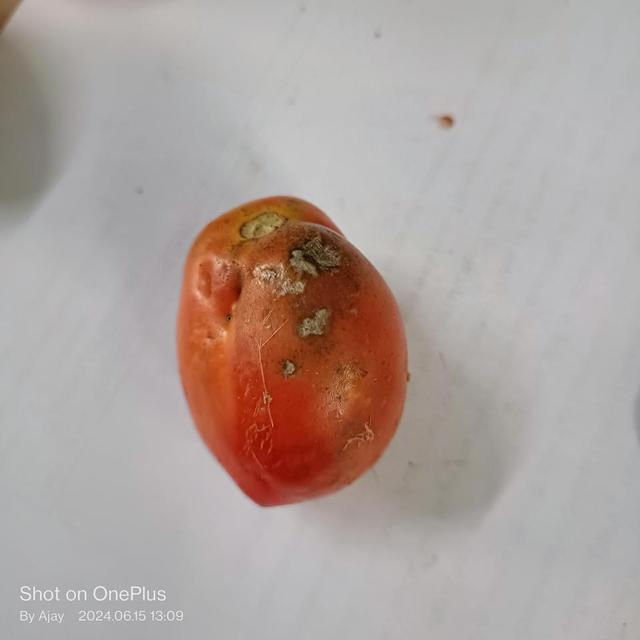Bacterial Spot Fruit: (167, 148, 230, 251)
